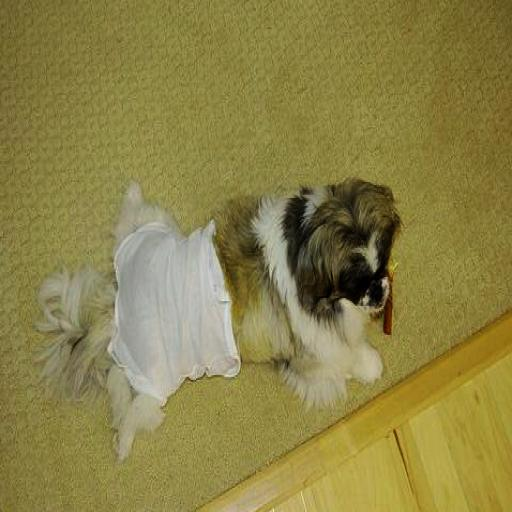dog_face: (298, 180, 395, 319)
